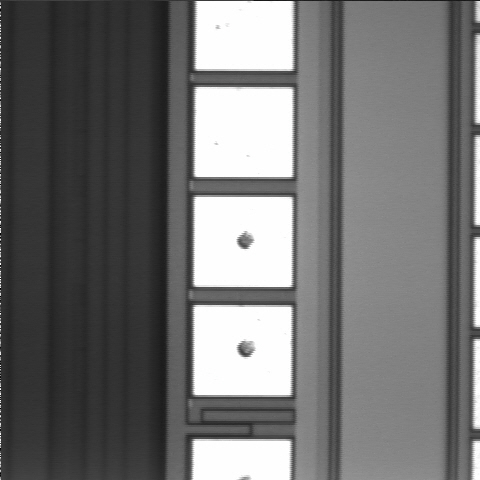pad: (195, 87, 293, 177), (194, 197, 292, 287), (194, 305, 292, 395)
